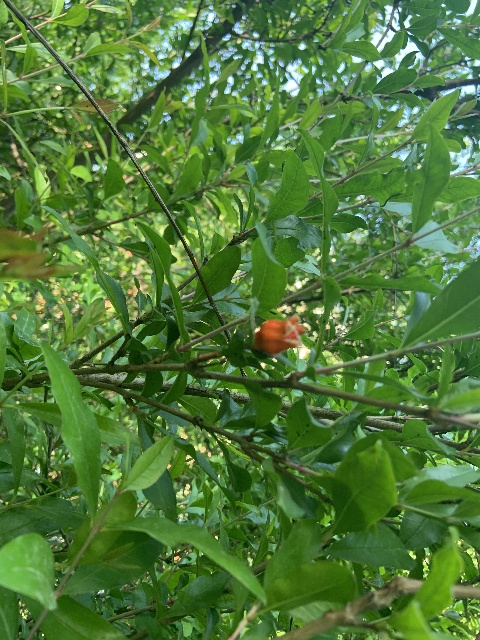flower: (252, 313, 306, 354)
